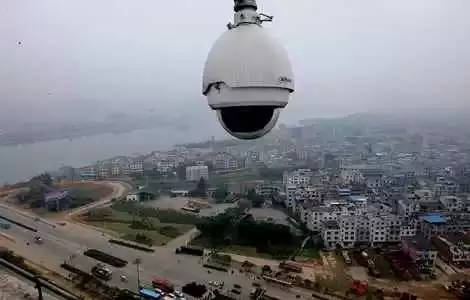camera: (199, 1, 299, 144)
